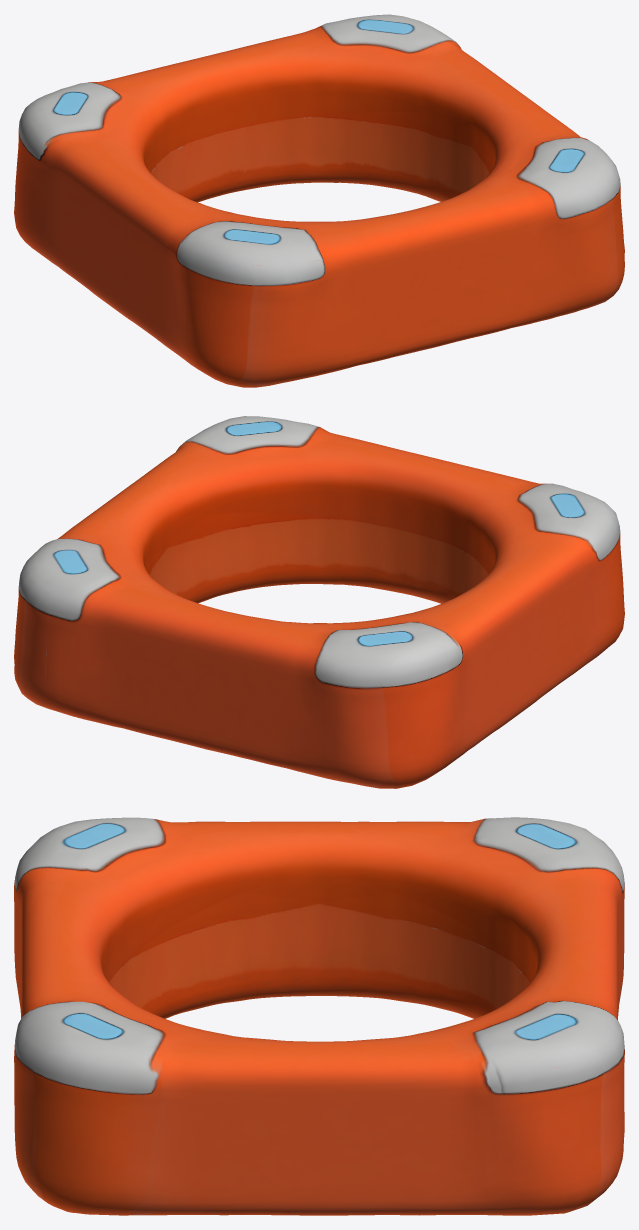
File: Fan -B.fbx
3 renders of one model, top to bottom at view 1: azimuth 30°, elevation 25°; view 2: azimuth 150°, elevation 25°; view 3: azimuth 270°, elevation 25°, orthographic. The views are drawn at different scales.
Visible parts, largest first — view 1: Mesh0; view 2: Mesh0; view 3: Mesh0.
Part boxes in pixels (x1=…): Mesh0: x1=14, y1=14, x2=624, y2=387; Mesh0: x1=14, y1=416, x2=624, y2=788; Mesh0: x1=14, y1=817, x2=624, y2=1215.
Bounding box in the file's own units: 191 × 60.37 × 192.
1 material, 1 textured.
